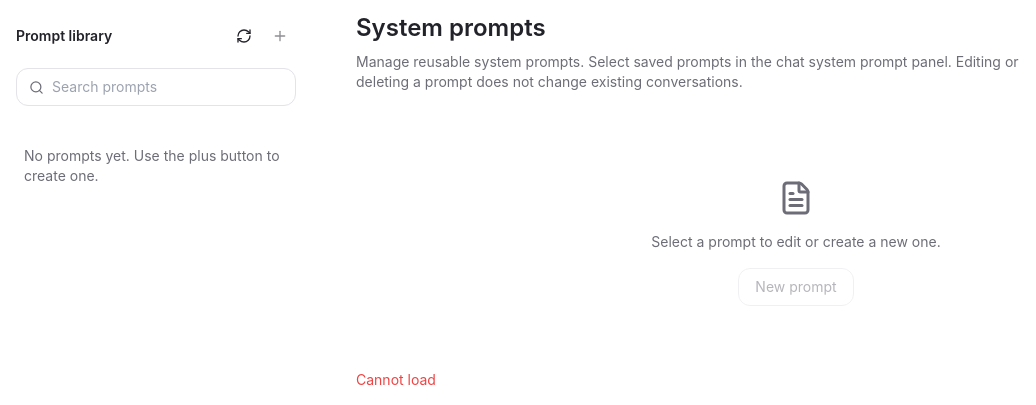
system prompt management › shows a load failure and supports retry
Check: the message reads "Cannot load", box [356, 371, 436, 388]
Check: the button named "New prompt" is disabled, box [264, 20, 296, 52]
Click the button named "Refresh prompt library": (244, 36) [228, 20, 260, 52]
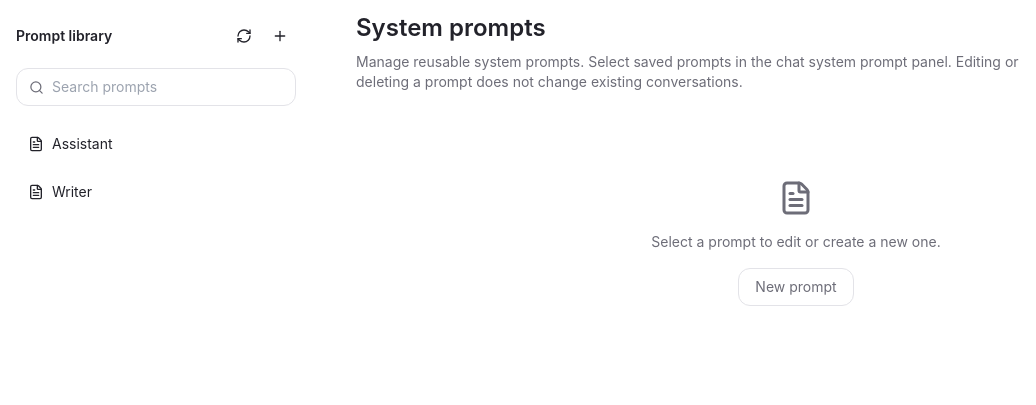
Check: the button "Assistant" is shown, box [16, 122, 296, 166]
Check: the message "Cannot load" is gone
